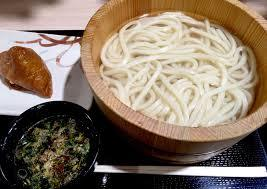kamaage: (75, 1, 267, 175)
